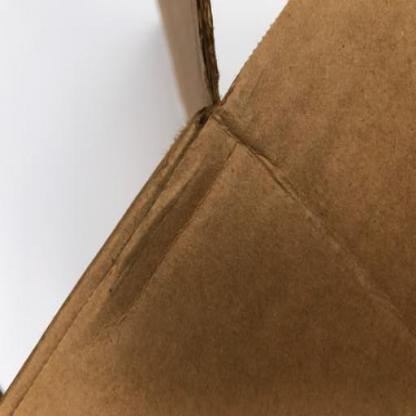CARDBOARD: (0, 0, 415, 415), (0, 110, 415, 415), (194, 0, 416, 331)
